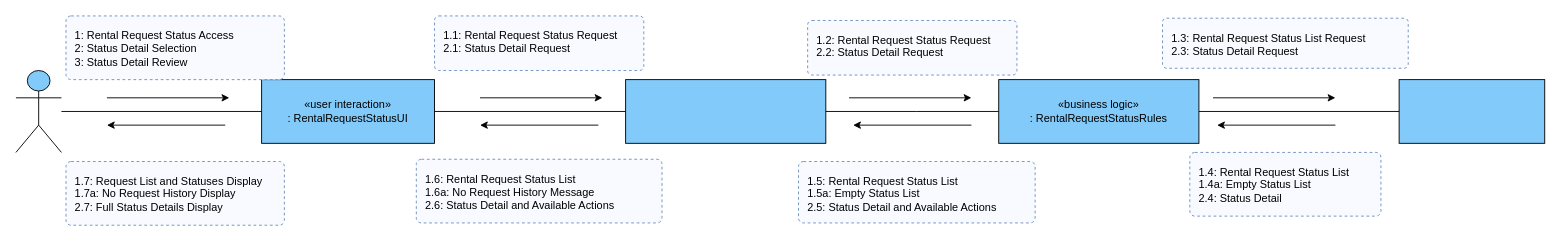
The diagram is 1561 pixels wide and 241 high, and some of its shapes have lost their labels. The centre of each missing label's shape, as x and y in pixels:
"Tenant" belongs at [38,111].
"«coordinator» : RentalRequestCoordinator" belongs at [725,111].
"«entity» : RentalRequest" belongs at [1471,111].
